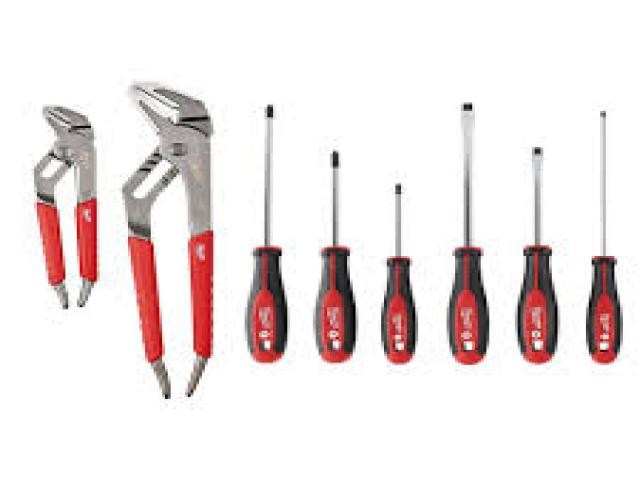Adjustable spanner: (122, 83, 212, 398), (34, 106, 98, 308)
Screwdriver: (446, 102, 490, 364), (246, 105, 286, 362), (516, 146, 559, 363), (586, 111, 621, 362), (315, 150, 356, 362), (381, 183, 418, 363)
